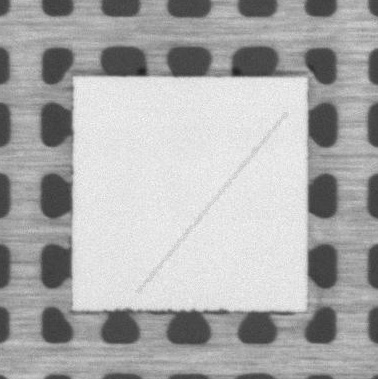DIE_CRACK: (138, 113, 286, 293)
